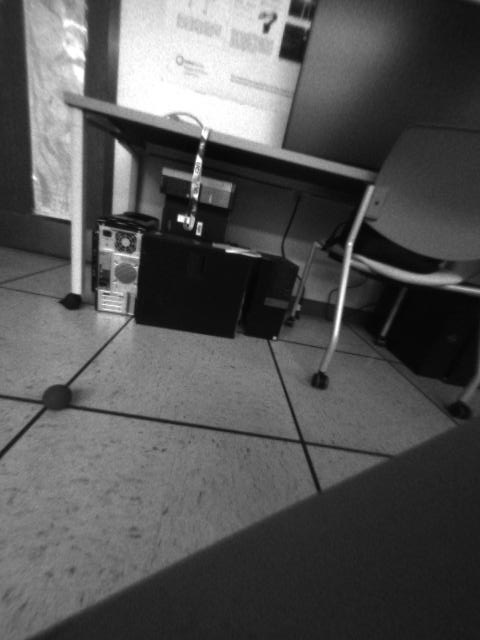dogtoy: (34, 372, 80, 421)
